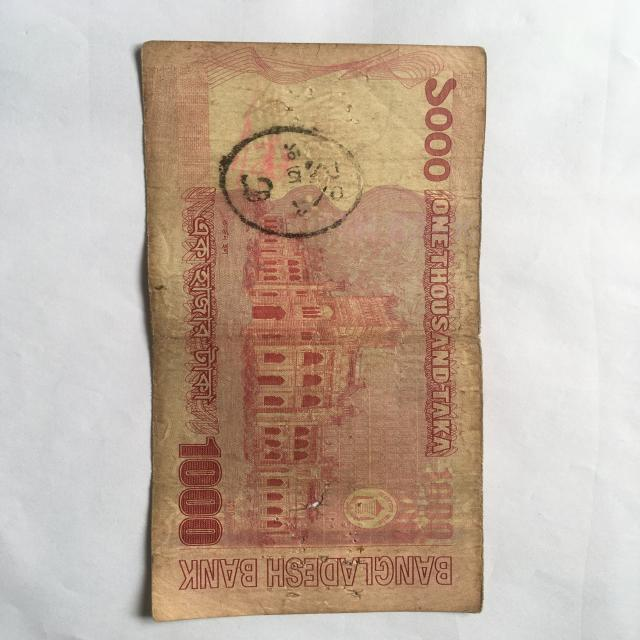Taka: (130, 39, 492, 618)
